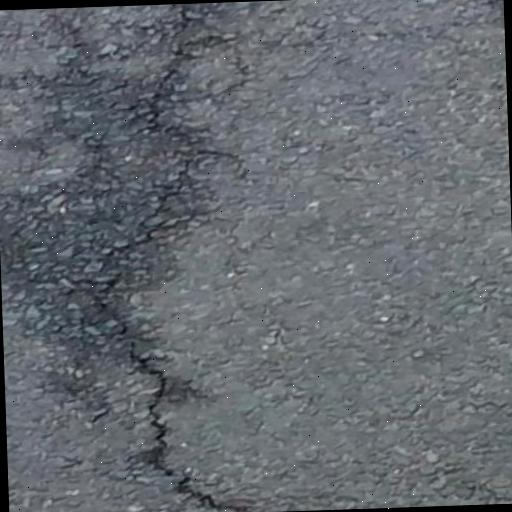spalling: (76, 46, 231, 512)
